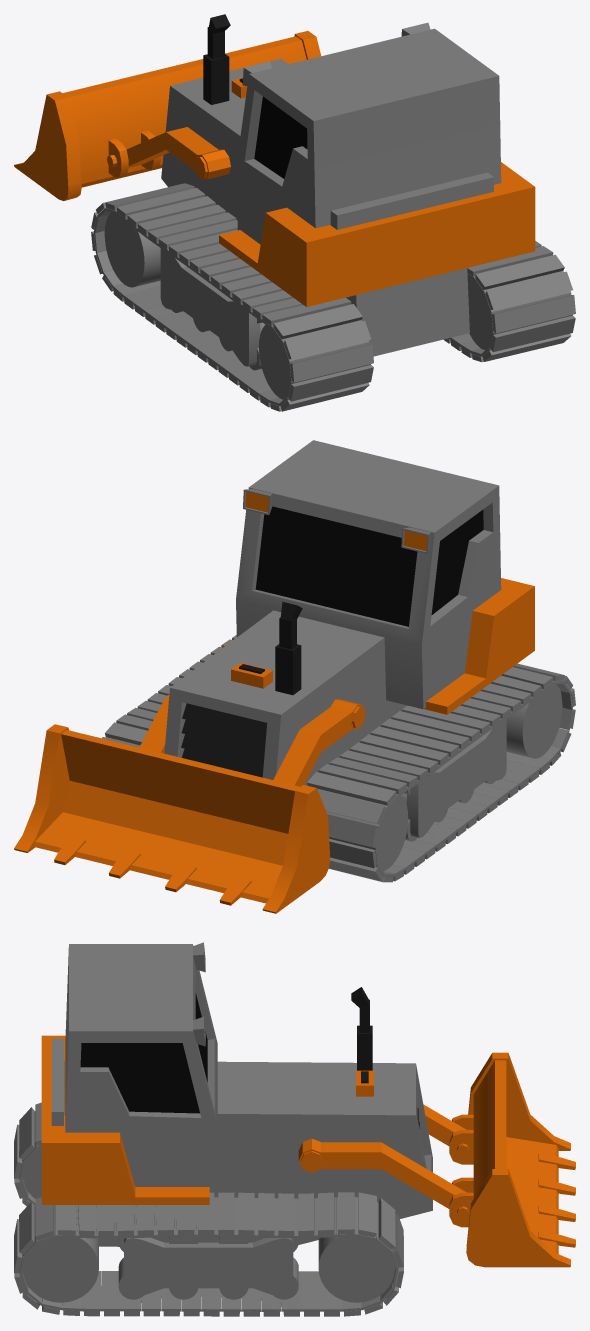
File: Bulldozer.fbx
3 renders of one model, top to bottom at view 1: azimuth 30°, elevation 25°; view 2: azimuth 150°, elevation 25°; view 3: azimuth 270°, elevation 25°, orthographic. The views are drawn at different scales.
Parts seen in each view (by area): view 1: Dozer; view 2: Dozer; view 3: Dozer.
Part boxes in pixels (<box>): Dozer: <box>14,14,575,411</box>; Dozer: <box>14,440,575,913</box>; Dozer: <box>14,942,575,1316</box>.
Size of the model in its own units: 7.05 by 6.6 by 12.68.
